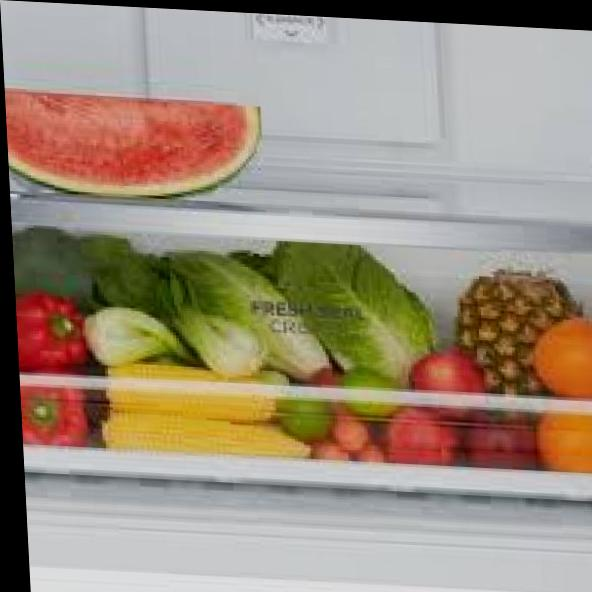peppers: (15, 285, 113, 456)
